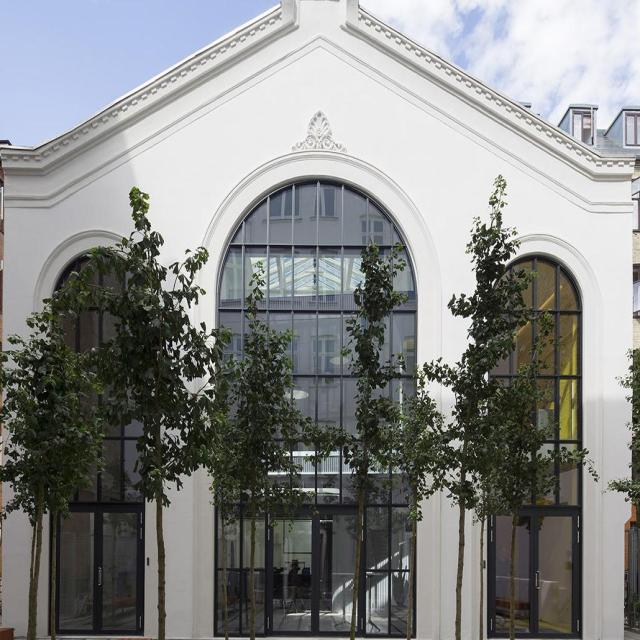door: (263, 504, 367, 639), (488, 504, 582, 639), (54, 500, 143, 639)
window: (224, 171, 416, 639), (487, 257, 581, 639)
